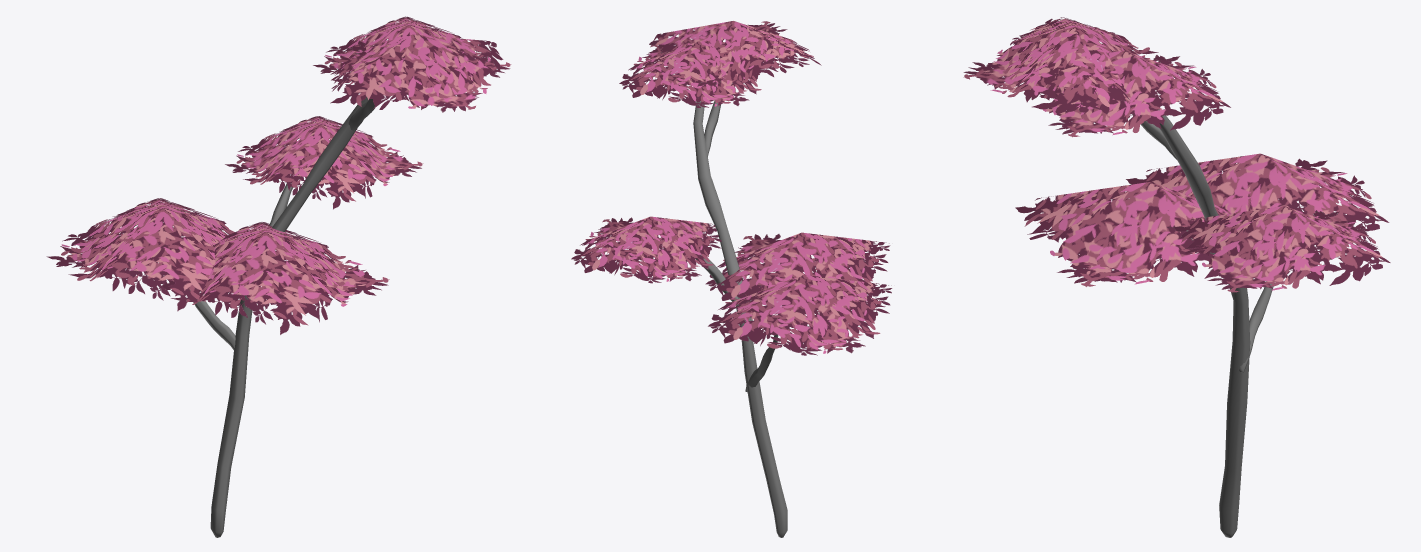
Rendered from pink_tree.obj.
3 views of the same model, side by side, from view 1: azimuth 30°, elevation 25°; view 2: azimuth 150°, elevation 25°; view 3: azimuth 270°, elevation 25° (orthographic). The views are drawn at different scales.
Parts seen in each view (by area): view 1: pasted__ZBrush_defualt_group19; view 2: pasted__ZBrush_defualt_group19; view 3: pasted__ZBrush_defualt_group19.
Boxes of the visible parts, x1,y1,x2,y2 form: pasted__ZBrush_defualt_group19: [46, 16, 511, 537]; pasted__ZBrush_defualt_group19: [571, 21, 892, 537]; pasted__ZBrush_defualt_group19: [963, 17, 1390, 537].
Bounding box in the file's own units: 1.71 × 2.17 × 1.59.
